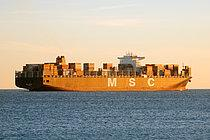Ship: (9, 43, 204, 97)
